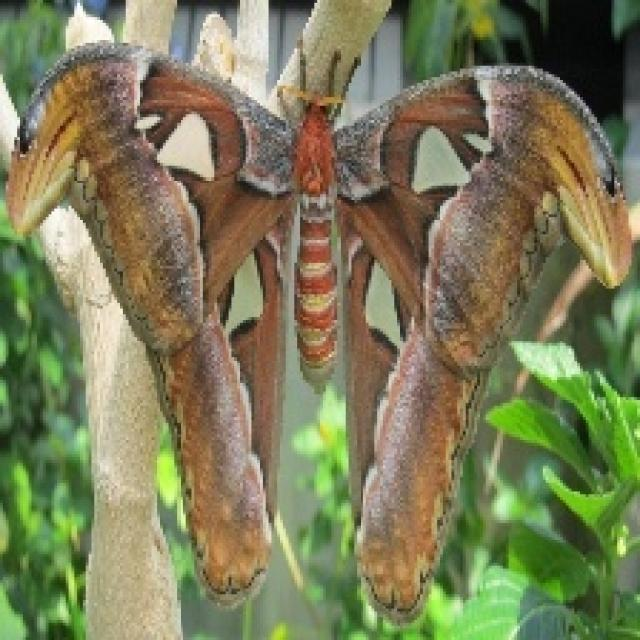butterfly: (0, 14, 634, 625)
